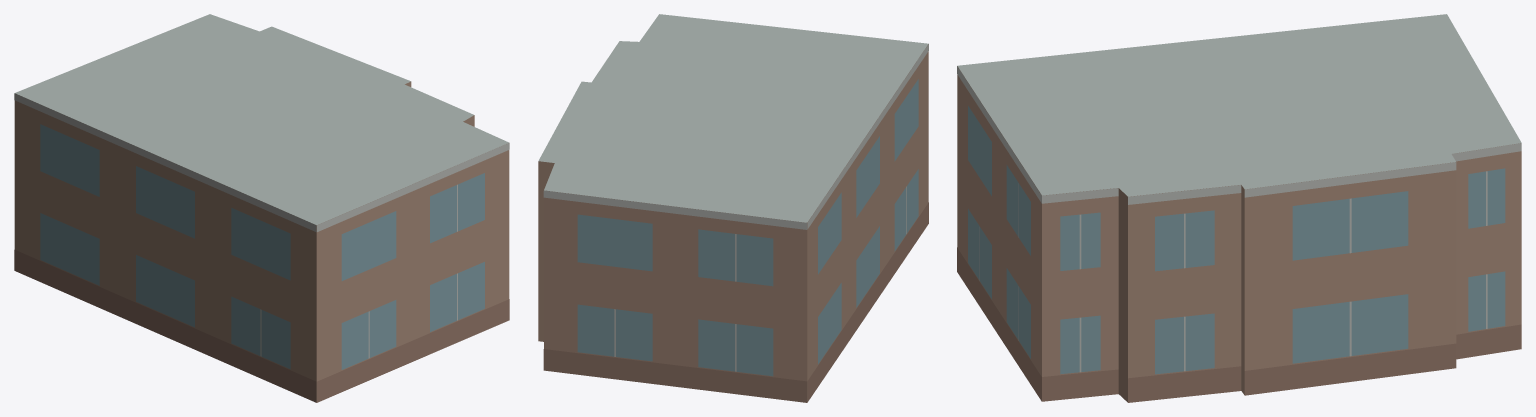
Rendered from survey-upis-32661285.glb.
The picture shows the model from 3 angles, left to right: view 1: azimuth 30°, elevation 25°; view 2: azimuth 150°, elevation 25°; view 3: azimuth 270°, elevation 25°; orthographic projection. The views are drawn at different scales.
Parts seen in each view (by area): view 1: survey-upis-32661285.tmp; view 2: survey-upis-32661285.tmp; view 3: survey-upis-32661285.tmp.
Part boxes in pixels (x1,y1,x2,y2): survey-upis-32661285.tmp: (14,14,509,402); survey-upis-32661285.tmp: (538,14,928,402); survey-upis-32661285.tmp: (957,14,1521,402).
Bounding box in the file's own units: 11.6 × 6.1 × 15.15.
